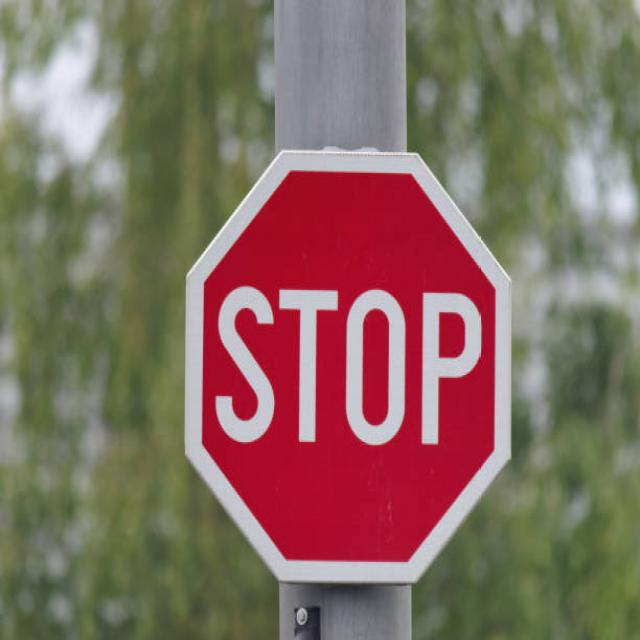stop: (179, 144, 514, 586)
